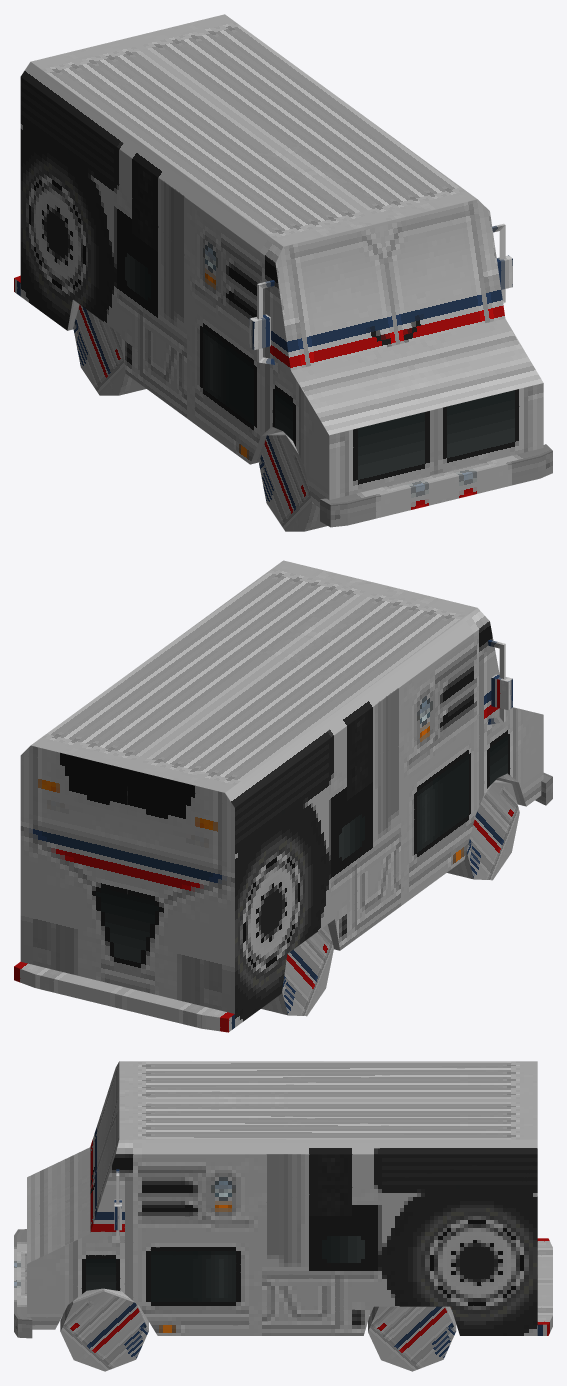
The model's file is car08_mail.glb.
3 views of the same model, one above another, from view 1: azimuth 30°, elevation 25°; view 2: azimuth 150°, elevation 25°; view 3: azimuth 270°, elevation 25° (orthographic). The views are drawn at different scales.
Visible parts, largest first — view 1: car08_mail; view 2: car08_mail; view 3: car08_mail.
Part boxes in pixels (x1=…): car08_mail: x1=14, y1=14, x2=552, y2=531; car08_mail: x1=14, y1=560, x2=552, y2=1032; car08_mail: x1=14, y1=1061, x2=552, y2=1371.
Bounding box in the file's own units: 3.17 × 3.23 × 6.89.
1 material, 1 textured.
